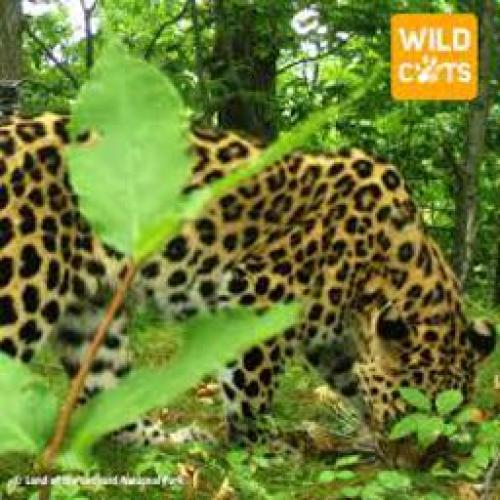amur_leopard-endangered: (0, 105, 486, 421)
